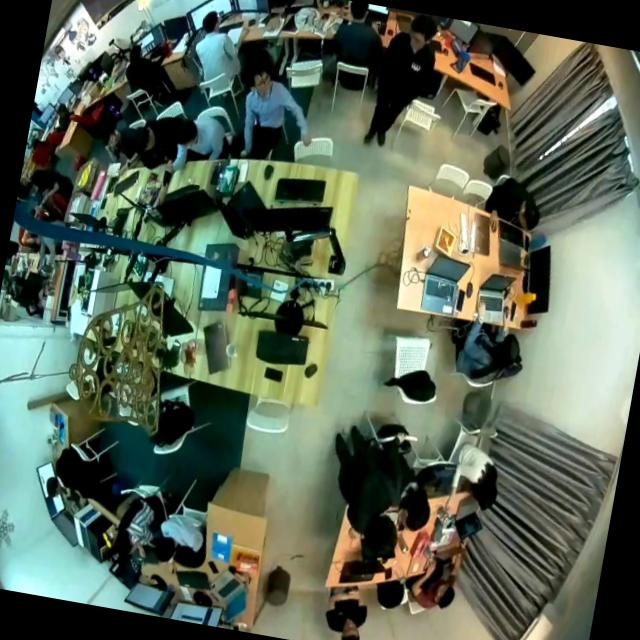employee_tag: (409, 61, 423, 74)
